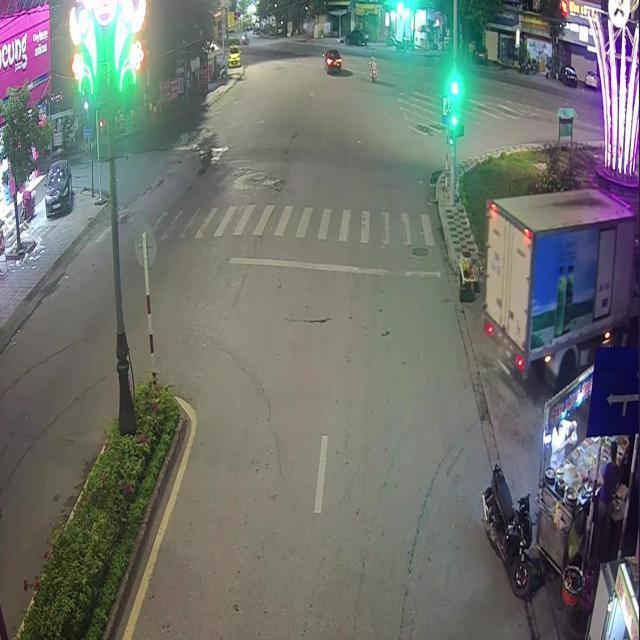car: (482, 184, 636, 388), (323, 49, 341, 72)
green_light: (450, 92, 457, 125)
stop_line: (226, 256, 440, 277)
